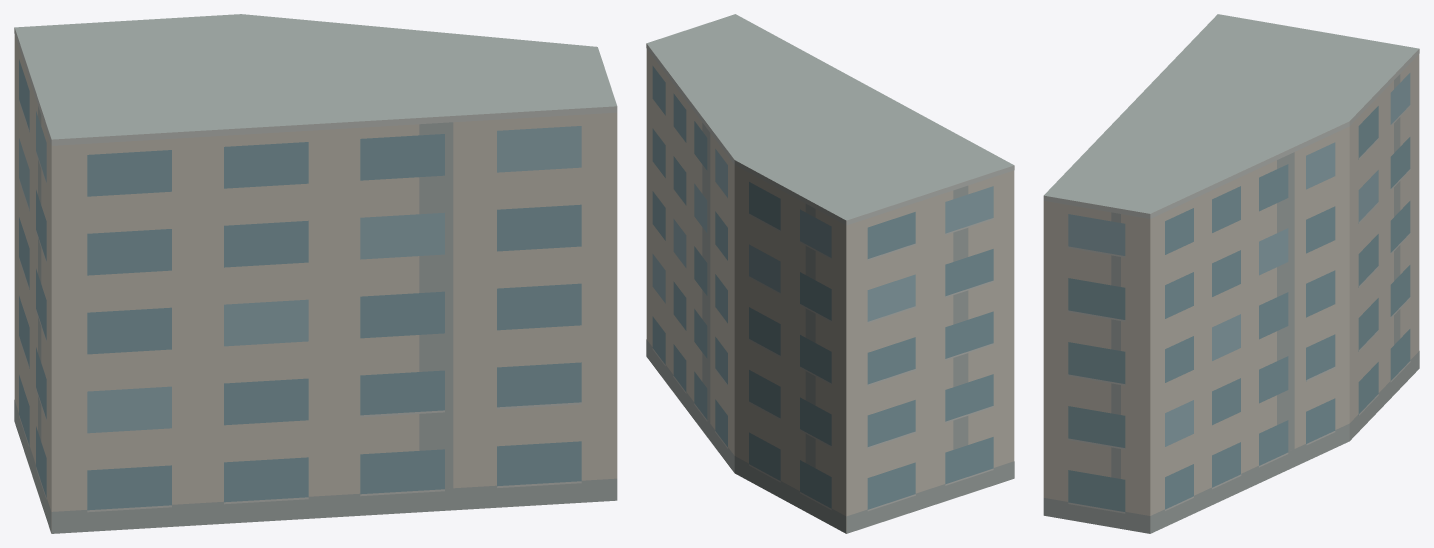
The model's file is residential-1f3ddee1-ac50-40a5-ab77-cb44ea6a8bd8.glb.
The picture shows the model from 3 angles, left to right: view 1: azimuth 30°, elevation 25°; view 2: azimuth 150°, elevation 25°; view 3: azimuth 270°, elevation 25°; orthographic projection. The views are drawn at different scales.
Parts seen in each view (by area): view 1: residential-1f3ddee1-ac50-40a5-ab77-cb44ea6a8bd8.tmp; view 2: residential-1f3ddee1-ac50-40a5-ab77-cb44ea6a8bd8.tmp; view 3: residential-1f3ddee1-ac50-40a5-ab77-cb44ea6a8bd8.tmp.
Part boxes in pixels (left/top/right/bottom): residential-1f3ddee1-ac50-40a5-ab77-cb44ea6a8bd8.tmp: left=14, top=14, right=617, bottom=533; residential-1f3ddee1-ac50-40a5-ab77-cb44ea6a8bd8.tmp: left=646, top=14, right=1014, bottom=533; residential-1f3ddee1-ac50-40a5-ab77-cb44ea6a8bd8.tmp: left=1043, top=14, right=1419, bottom=533.
Bounding box in the file's own units: 20.44 × 15.25 × 16.24.
